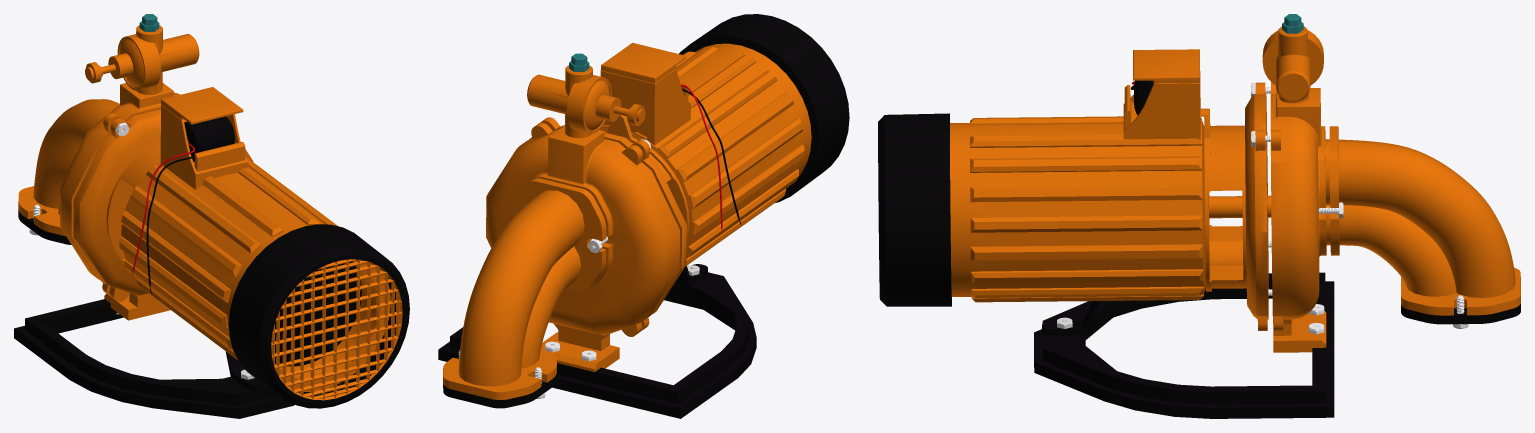
Rendered from pump_scene-transformed.glb.
The picture shows the model from 3 angles, left to right: view 1: azimuth 30°, elevation 25°; view 2: azimuth 150°, elevation 25°; view 3: azimuth 270°, elevation 25°; orthographic projection. The views are drawn at different scales.
Parts seen in each view (by area): view 1: Cube.005, Cube.009, Retopo_NurbsPath.002; view 2: Cube.005, Cube.009, Retopo_NurbsPath.002; view 3: Cube.005, Cube.009.
Part boxes in pixels (x1,y1,x2,y2): Cube.005: (18,25,402,400); Cube.009: (14,116,409,418); Retopo_NurbsPath.002: (132,141,194,275); Cube.005: (443,42,811,399); Cube.009: (438,14,849,418); Retopo_NurbsPath.002: (680,84,722,233); Cube.005: (950,26,1520,352); Cube.009: (878,80,1520,418).
Bounding box in the file's own units: 0.7617 × 0.9666 × 1.65.
4 materials, 4 textured.
